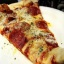pizza: (1, 1, 51, 60)
